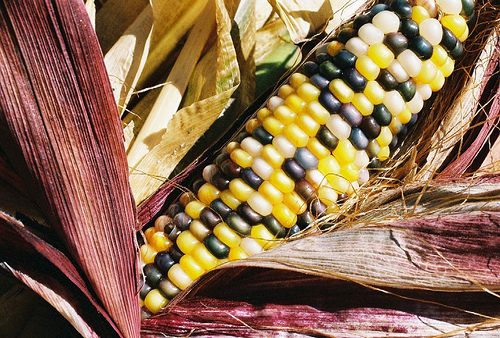corn: (138, 1, 468, 313)
